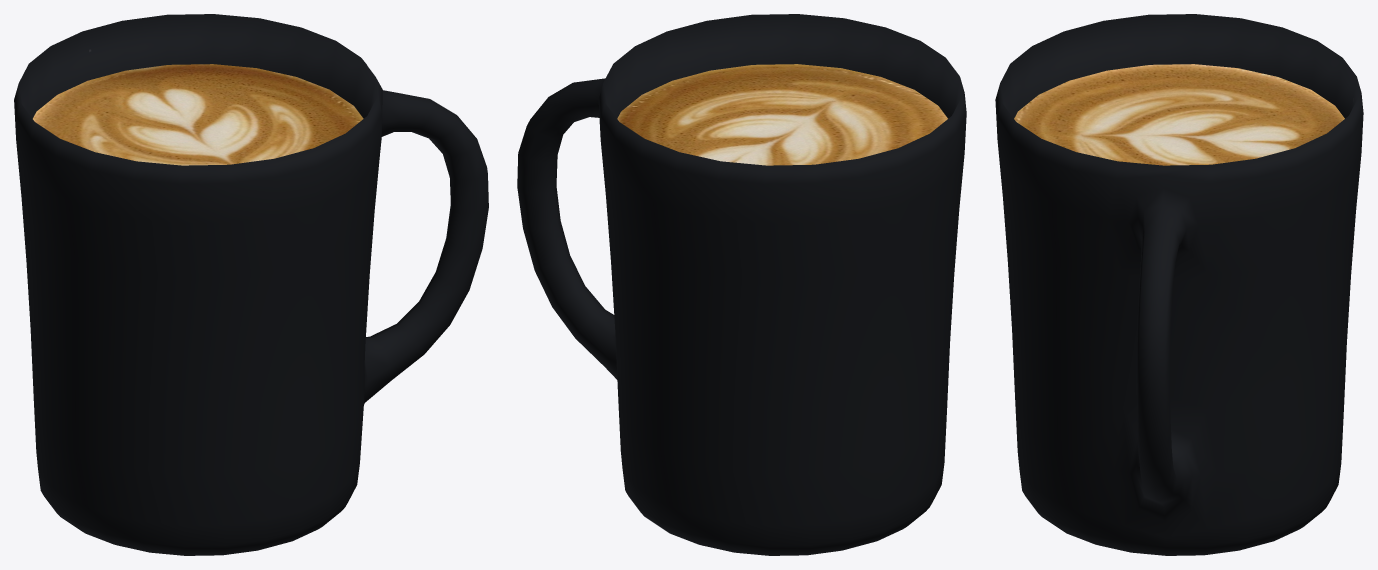
The model's file is Cup.FBX.
3 renders of one model, left to right at view 1: azimuth 30°, elevation 25°; view 2: azimuth 150°, elevation 25°; view 3: azimuth 270°, elevation 25°, orthographic.
Visible parts, largest first — view 1: cup; view 2: cup; view 3: cup.
Part boxes in pixels (left/top/right/bottom): cup: left=14, top=14, right=488, bottom=555; cup: left=517, top=14, right=966, bottom=555; cup: left=995, top=14, right=1363, bottom=555.
Bounding box in the file's own units: 10.77 × 9.68 × 7.89.
Materials: 1 (1 with a texture image).
